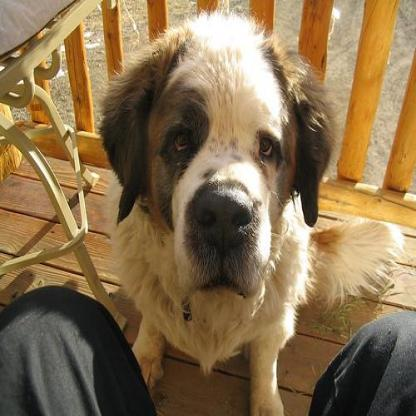Saint_Bernard: (100, 11, 405, 414)
